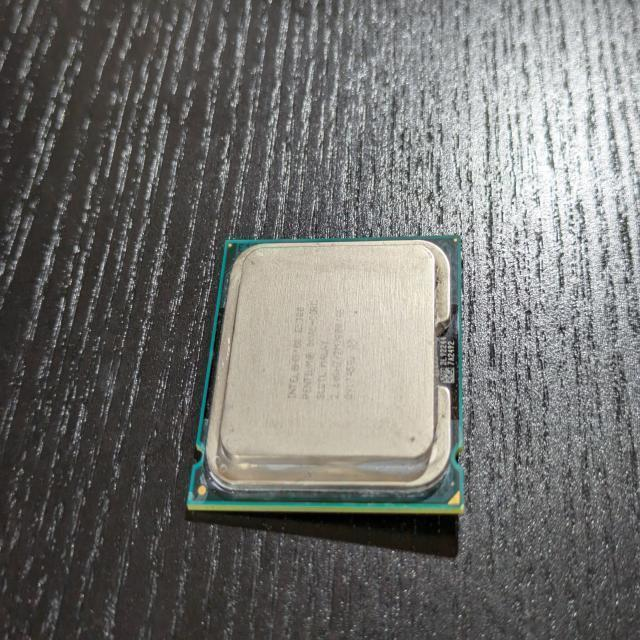CPU: (186, 233, 467, 517)
